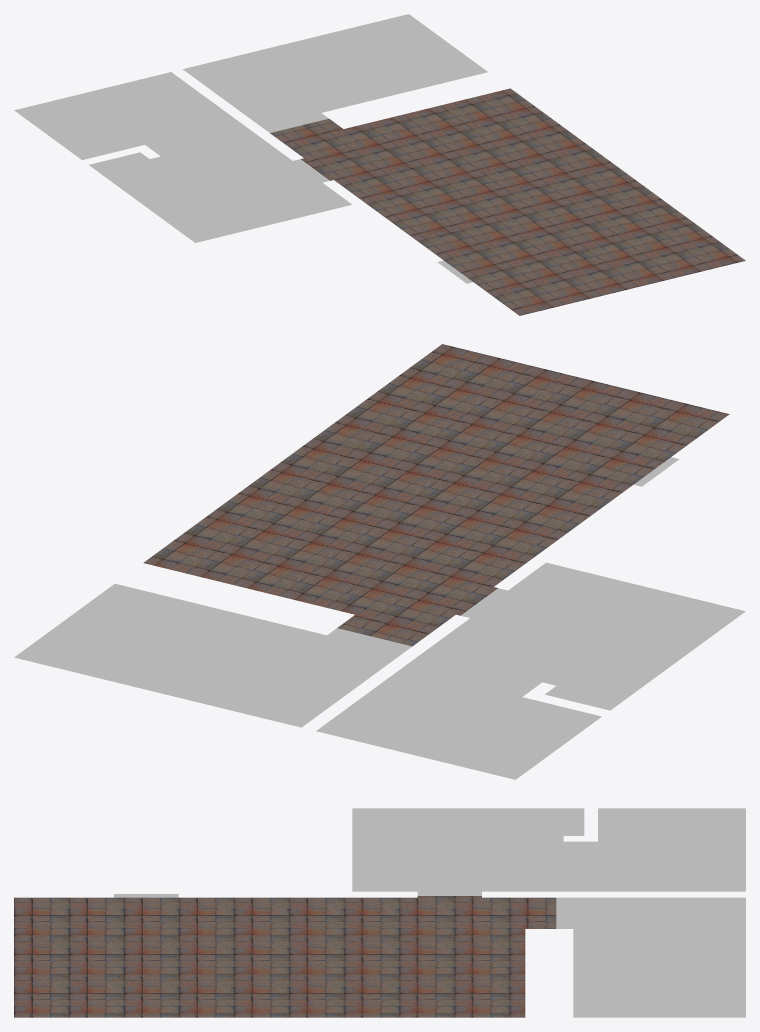
File: apartment_floors.FBX
The picture shows the model from 3 angles, top to bottom: view 1: azimuth 30°, elevation 25°; view 2: azimuth 150°, elevation 25°; view 3: azimuth 270°, elevation 25°; orthographic projection. The views are drawn at different scales.
Visible parts, largest first — view 1: kitchen_floors, carpet, bathroom_tiles, metal_trimming; view 2: kitchen_floors, carpet, bathroom_tiles, metal_trimming; view 3: kitchen_floors, carpet, bathroom_tiles, metal_trimming.
Boxes of the visible parts, x1=… form: kitchen_floors: x1=270, y1=88, x2=745, y2=315; carpet: x1=89, y1=14, x2=487, y2=242; bathroom_tiles: x1=14, y1=72, x2=252, y2=159; metal_trimming: x1=159, y1=116, x2=472, y2=283; kitchen_floors: x1=143, y1=344, x2=729, y2=646; carpet: x1=14, y1=562, x2=745, y2=727; bathroom_tiles: x1=316, y1=655, x2=601, y2=779; metal_trimming: x1=334, y1=457, x2=679, y2=683; kitchen_floors: x1=14, y1=896, x2=556, y2=1017; carpet: x1=352, y1=808, x2=745, y2=1017; bathroom_tiles: x1=567, y1=808, x2=745, y2=891; metal_trimming: x1=114, y1=841, x2=567, y2=928.
Bounding box in the file's own units: 576 × 3.05e-05 × 852.
